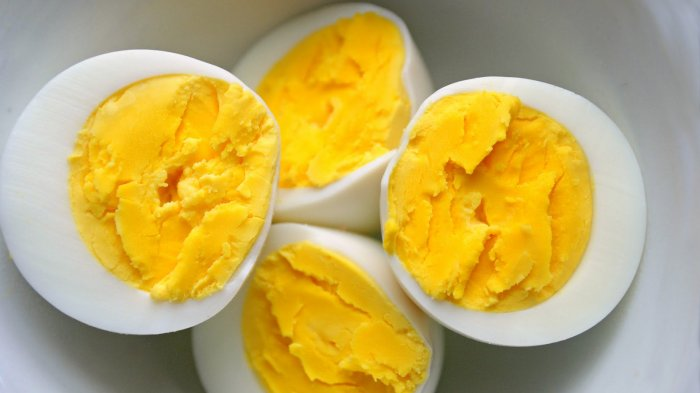Telur: (373, 78, 620, 368), (33, 60, 265, 318), (215, 21, 440, 240), (203, 218, 463, 393)
